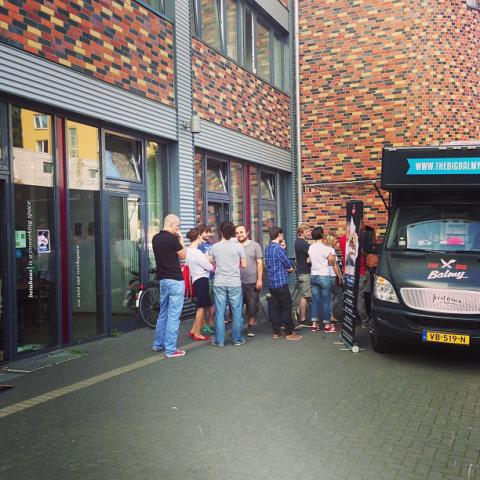bus: (300, 145, 480, 355)
truck: (370, 142, 479, 351)
